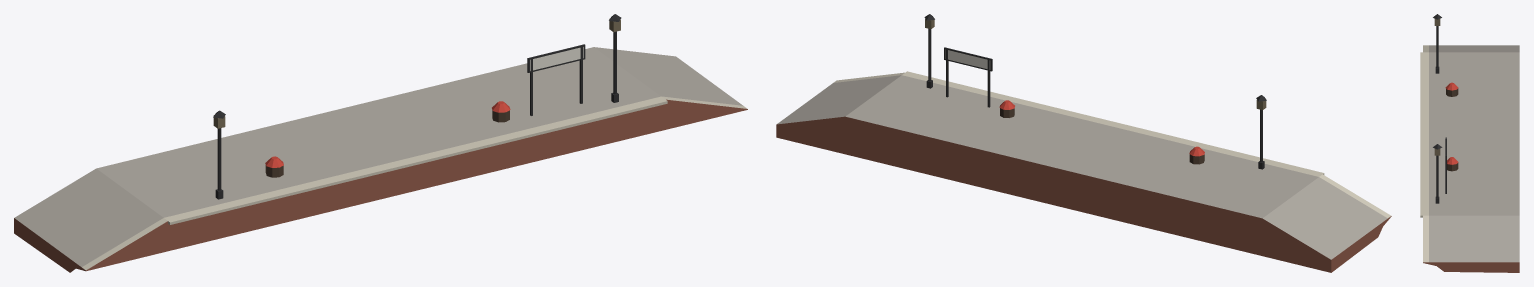
File: rail_station_platform.glb
The picture shows the model from 3 angles, left to right: view 1: azimuth 30°, elevation 25°; view 2: azimuth 150°, elevation 25°; view 3: azimuth 270°, elevation 25°; orthographic projection. The views are drawn at different scales.
Parts seen in each view (by area): view 1: rail_station_platform_lod0; view 2: rail_station_platform_lod0; view 3: rail_station_platform_lod0.
Part boxes in pixels (x1,y1,x2,y2): rail_station_platform_lod0: (14,14,747,272); rail_station_platform_lod0: (776,14,1391,272); rail_station_platform_lod0: (1420,14,1519,272).
Size of what is drawn, in the model's own units: 26.6 by 5.08 by 5.14.
